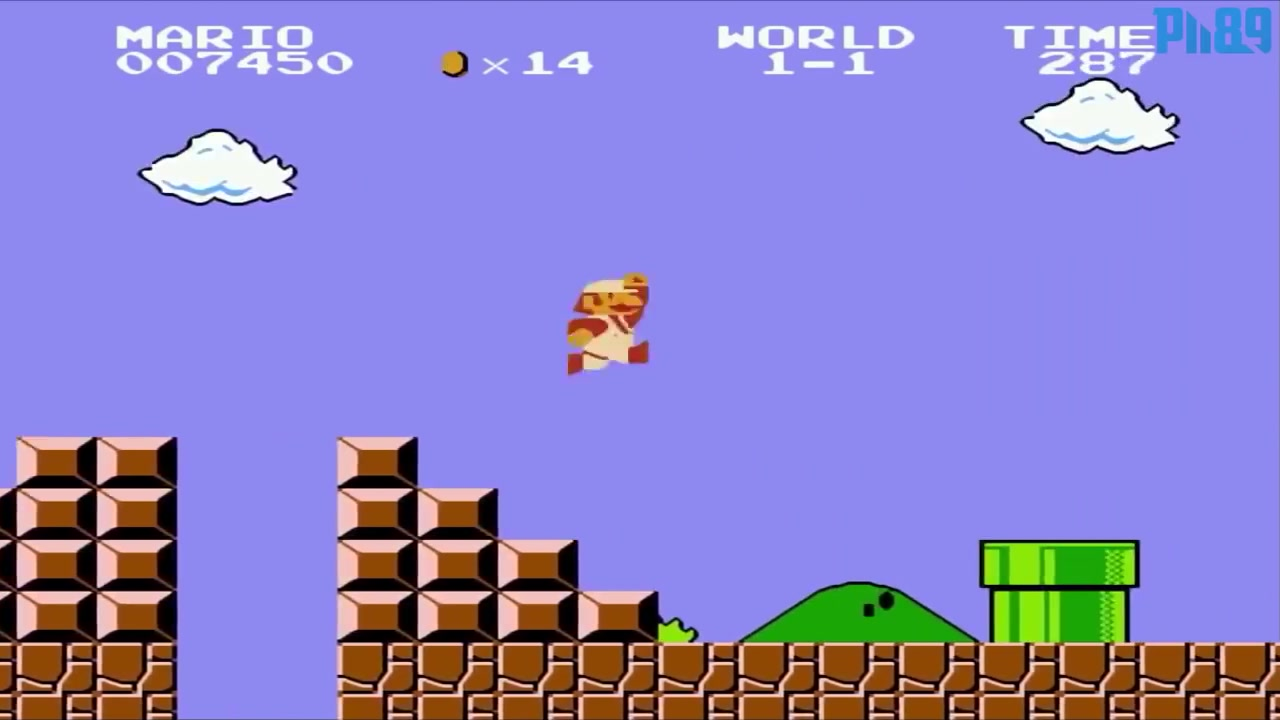mario: (555, 272, 667, 376)
